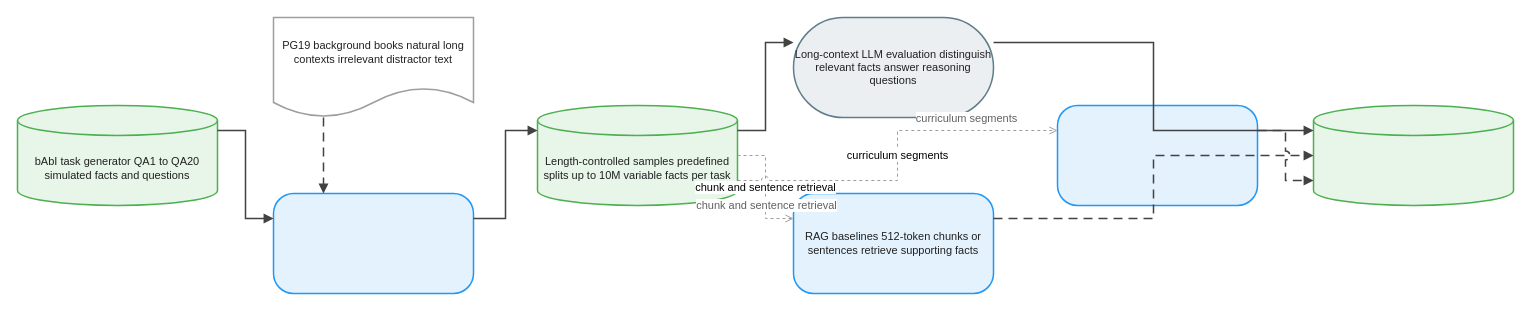
The diagram is 1532 pixels wide and 312 high, and some of its shapes have lost their labels. Here are the shapes that lost their labels. From the top down, the box of each, then its label:
(1056, 104, 1258, 206): Recurrent-memory training RMT and ARMT curriculum 10k train / 1k eval
(1312, 104, 1514, 206): BABILong report accuracy by task and length extrapolation up to 50M tokens
(272, 192, 474, 294): Fact hiding pipeline insert task sentences preserve background order
